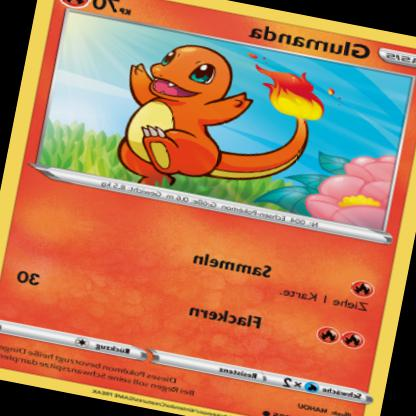Charmander: (101, 27, 325, 214)
